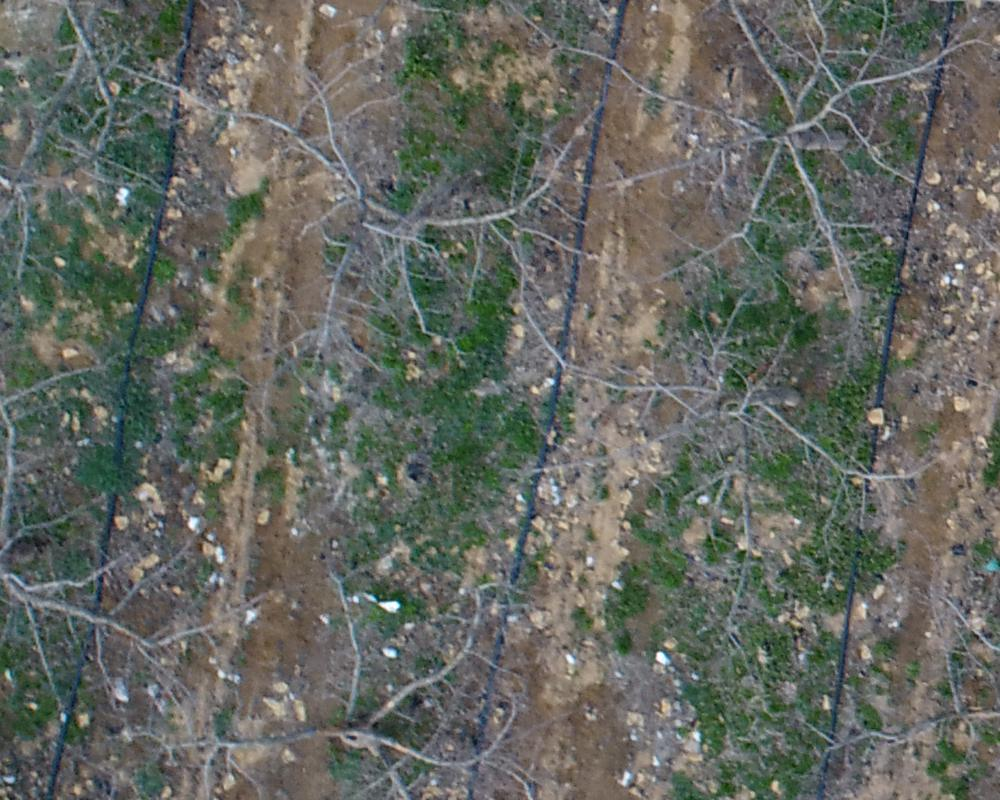apple: (111, 42, 611, 406), (511, 304, 935, 677), (525, 10, 990, 346), (10, 246, 258, 750), (194, 556, 526, 790)
